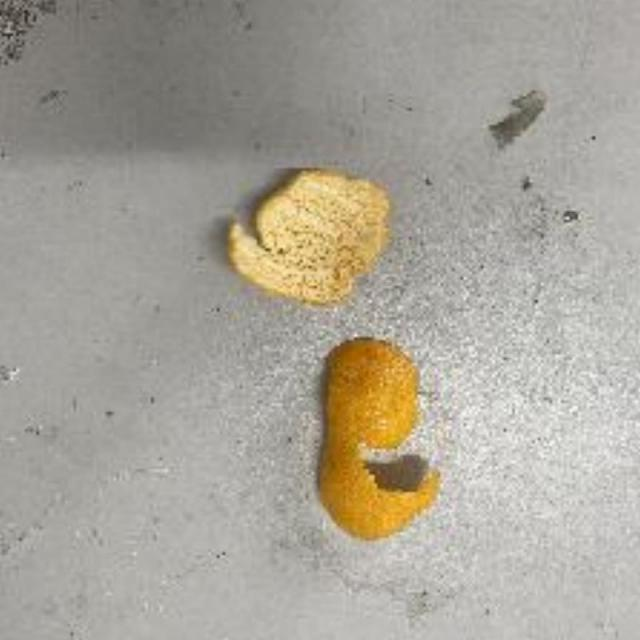orange peel: (326, 340, 442, 544), (226, 165, 390, 304)
